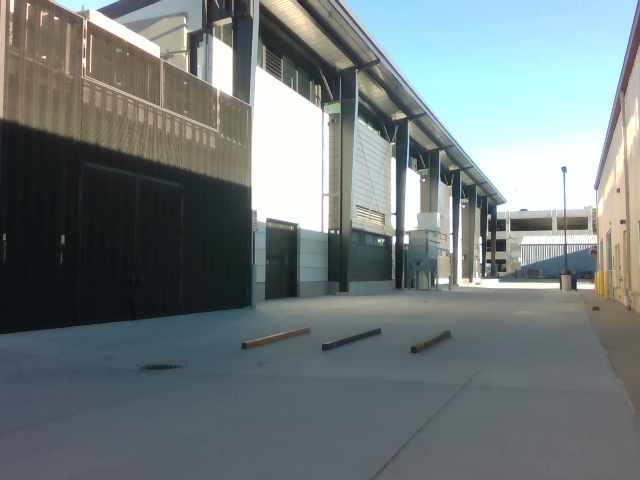Dunnage: (234, 320, 470, 356)
